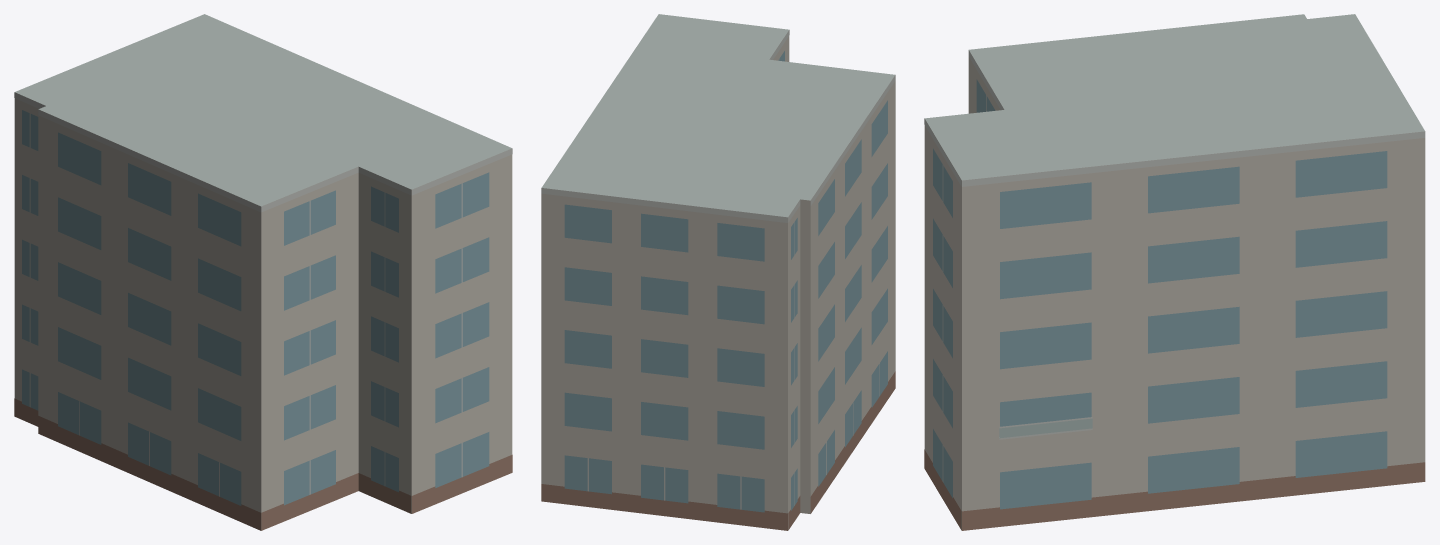
The model's file is survey-upis-32971220.glb.
3 views of the same model, side by side, from view 1: azimuth 30°, elevation 25°; view 2: azimuth 150°, elevation 25°; view 3: azimuth 270°, elevation 25° (orthographic). The views are drawn at different scales.
Parts seen in each view (by area): view 1: survey-upis-32971220.tmp; view 2: survey-upis-32971220.tmp; view 3: survey-upis-32971220.tmp.
Part boxes in pixels (x1,y1,x2,y2): survey-upis-32971220.tmp: (14, 14, 512, 530); survey-upis-32971220.tmp: (541, 14, 895, 530); survey-upis-32971220.tmp: (924, 14, 1425, 530).
Size of the model in its own units: 13.51 by 13.25 by 17.17.
